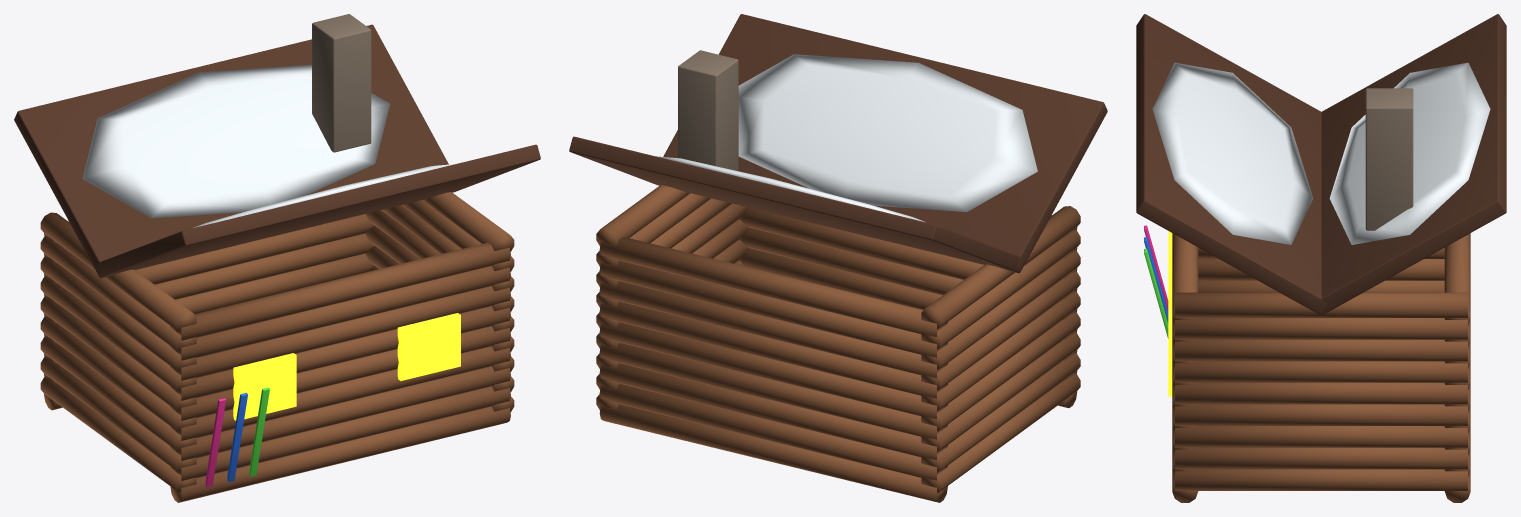
File: pondok-ski.glb
3 renders of one model, left to right at view 1: azimuth 30°, elevation 25°; view 2: azimuth 150°, elevation 25°; view 3: azimuth 270°, elevation 25°, orthographic. The views are drawn at different scales.
Visible parts, largest first — view 1: Cube.003, Cube.002, Cube, Cylinder.032, Cube.004, Cylinder.028, Cylinder, Cylinder.024, Cylinder.004, Cylinder.008, Cylinder.012, Cylinder.021 (+25 smaller); view 2: Cube.001, Cube, Cube.002, Cylinder.033, Cylinder.001, Cylinder.005, Cylinder.009, Cylinder.013, Cylinder.017, Cylinder.021, Cylinder.029, Cylinder.025 (+20 smaller); view 3: Cube, Cube.001, Cube.002, Cube.003, Cylinder.007, Cylinder.027, Cylinder.035, Cylinder.019, Cube.004, Cylinder.003, Cylinder.011, Cylinder.015 (+8 smaller).
Boxes of the visible parts, x1,y1,x2,y2 form: Cube.003: [82, 64, 390, 218]; Cube.002: [14, 24, 448, 277]; Cube: [97, 144, 540, 278]; Cylinder.032: [170, 242, 510, 340]; Cube.004: [312, 14, 371, 152]; Cylinder.028: [170, 266, 510, 360]; Cylinder: [170, 406, 510, 502]; Cylinder.024: [170, 286, 510, 380]; Cylinder.004: [170, 386, 510, 480]; Cylinder.008: [170, 366, 510, 460]; Cylinder.012: [170, 346, 510, 440]; Cylinder.021: [44, 214, 374, 303]; Cube.001: [738, 54, 1037, 211]; Cube: [663, 14, 1107, 272]; Cube.002: [569, 136, 1021, 273]; Cylinder.033: [599, 237, 947, 336]; Cylinder.001: [599, 404, 947, 502]; Cylinder.005: [599, 383, 947, 480]; Cylinder.009: [599, 363, 947, 459]; Cylinder.013: [599, 342, 947, 439]; Cylinder.017: [599, 322, 947, 418]; Cylinder.021: [599, 301, 947, 398]; Cylinder.029: [599, 260, 947, 357]; Cylinder.025: [599, 281, 947, 377]; Cube: [1136, 14, 1327, 315]; Cube.001: [1152, 62, 1313, 244]; Cube.002: [1316, 14, 1506, 315]; Cube.003: [1329, 62, 1490, 244]; Cylinder.007: [1175, 447, 1467, 469]; Cylinder.027: [1175, 339, 1467, 361]; Cylinder.035: [1175, 292, 1467, 317]; Cylinder.019: [1175, 382, 1467, 404]; Cube.004: [1365, 88, 1413, 230]; Cylinder.003: [1175, 469, 1467, 490]; Cylinder.011: [1175, 426, 1467, 447]; Cylinder.015: [1175, 404, 1467, 425].
Size of the model in its own units: 13 by 11.96 by 10.88.
